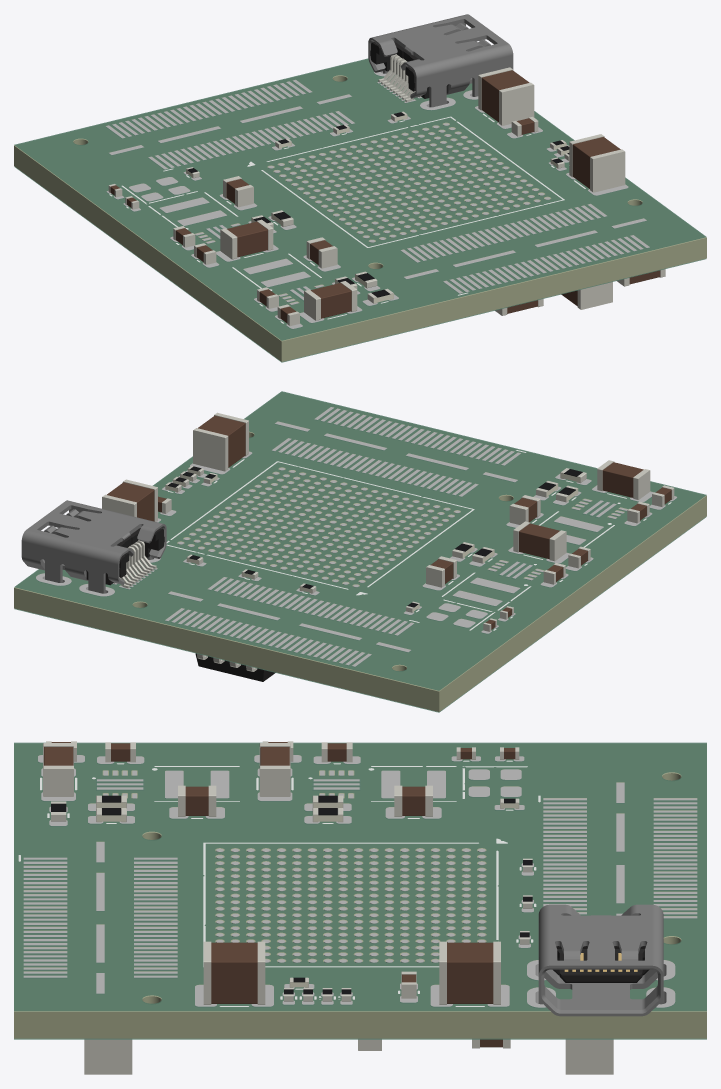
The model's file is micro-hdmi.glb.
3 renders of one model, top to bottom at view 1: azimuth 30°, elevation 25°; view 2: azimuth 150°, elevation 25°; view 3: azimuth 270°, elevation 25°, orthographic. The views are drawn at different scales.
Parts seen in each view (by area): view 1: =>[0:1:1:27], =>[0:1:1:25], =>[0:1:1:22], =>[0:1:1:9], =>[0:1:1:7] (×3), =>[0:1:1:17] (×2), =>[0:1:1:23], =>[0:1:1:15] (×2), =>[0:1:1:26]; view 2: =>[0:1:1:27], =>[0:1:1:25], =>[0:1:1:22], =>[0:1:1:9], =>[0:1:1:7] (×2), =>[0:1:1:17] (×2), =>[0:1:1:23], =>[0:1:1:15] (×2), =>[0:1:1:21], =>[0:1:1:26]; view 3: =>[0:1:1:27], =>[0:1:1:25], =>[0:1:1:22], =>[0:1:1:9], =>[0:1:1:7] (×4), =>[0:1:1:17] (×2), =>[0:1:1:23], =>[0:1:1:15] (×2), =>[0:1:1:26], =>[0:1:1:3] (×2).
Part boxes in pixels (bbox=[...]): =>[0:1:1:27]: bbox=[14, 60, 706, 361]; =>[0:1:1:25]: bbox=[14, 58, 706, 340]; =>[0:1:1:22]: bbox=[106, 71, 649, 328]; =>[0:1:1:9]: bbox=[368, 14, 513, 107]; =>[0:1:1:7] (×3): bbox=[478, 67, 625, 309]; =>[0:1:1:17] (×2): bbox=[220, 219, 357, 320]; =>[0:1:1:23]: bbox=[109, 113, 585, 323]; =>[0:1:1:15] (×2): bbox=[223, 176, 337, 268]; =>[0:1:1:26]: bbox=[14, 166, 706, 362]; =>[0:1:1:27]: bbox=[14, 392, 706, 711]; =>[0:1:1:25]: bbox=[14, 391, 706, 690]; =>[0:1:1:22]: bbox=[36, 407, 676, 666]; =>[0:1:1:9]: bbox=[21, 500, 166, 593]; =>[0:1:1:7] (×2): bbox=[102, 412, 248, 521]; =>[0:1:1:17] (×2): bbox=[513, 460, 650, 561]; =>[0:1:1:23]: bbox=[166, 450, 671, 630]; =>[0:1:1:15] (×2): bbox=[426, 495, 540, 587]; =>[0:1:1:21]: bbox=[195, 653, 275, 681]; =>[0:1:1:26]: bbox=[14, 516, 706, 712]; =>[0:1:1:27]: bbox=[14, 744, 706, 1038]; =>[0:1:1:25]: bbox=[14, 742, 706, 1011]; =>[0:1:1:22]: bbox=[23, 755, 697, 1007]; =>[0:1:1:9]: bbox=[538, 904, 663, 1016]; =>[0:1:1:7] (×4): bbox=[84, 941, 613, 1074]; =>[0:1:1:17] (×2): bbox=[43, 743, 290, 796]; =>[0:1:1:23]: bbox=[18, 760, 540, 1006]; =>[0:1:1:15] (×2): bbox=[178, 785, 432, 816]; =>[0:1:1:26]: bbox=[14, 1038, 706, 1039]; =>[0:1:1:3] (×2): bbox=[105, 742, 352, 762].
Bounding box in the file's own units: 0.0337 × 0.00709 × 0.036.
